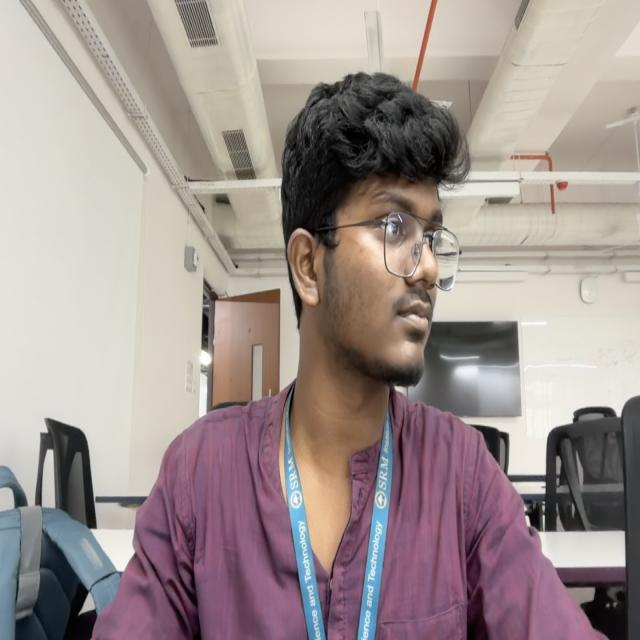ravindra: (283, 72, 469, 388)
